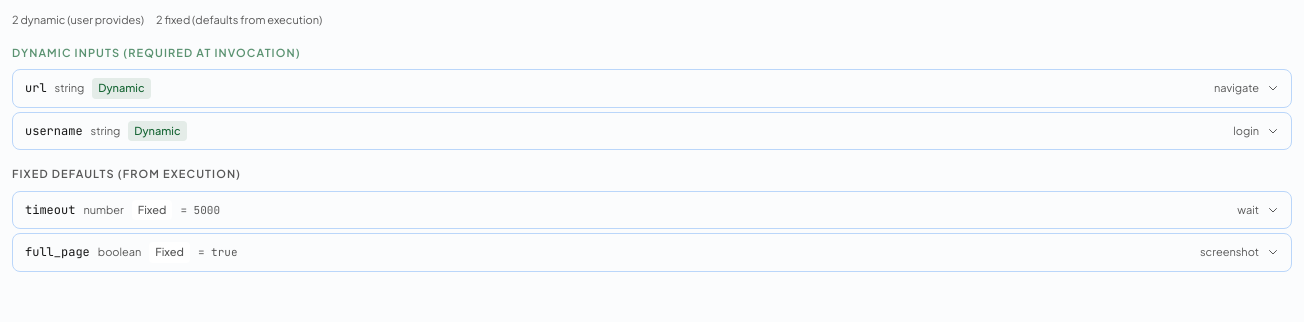
Test case: InputSchemaEditor › expands field details on click
The image size is (1304, 322).
Click the text "url": point(36, 88) top-left (25, 80), bottom-right (47, 96)
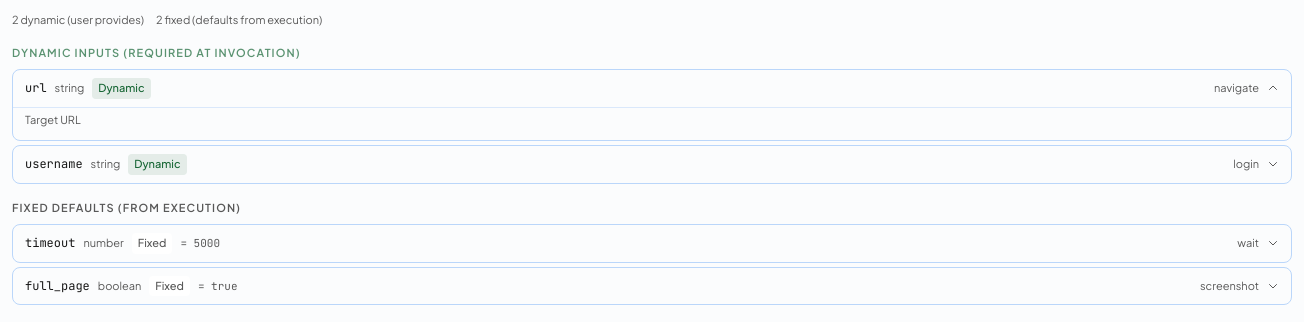
Check: the text "Target URL" is shown, box top-left (25, 112), bottom-right (81, 126)
